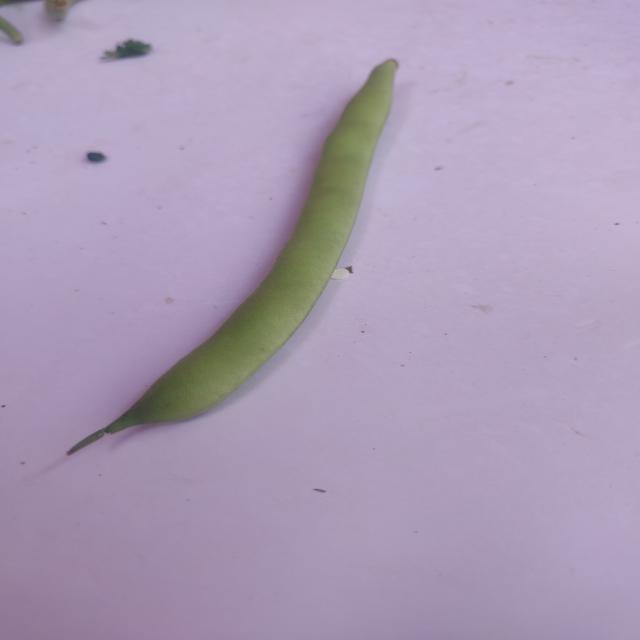Beans: (13, 34, 487, 508)
